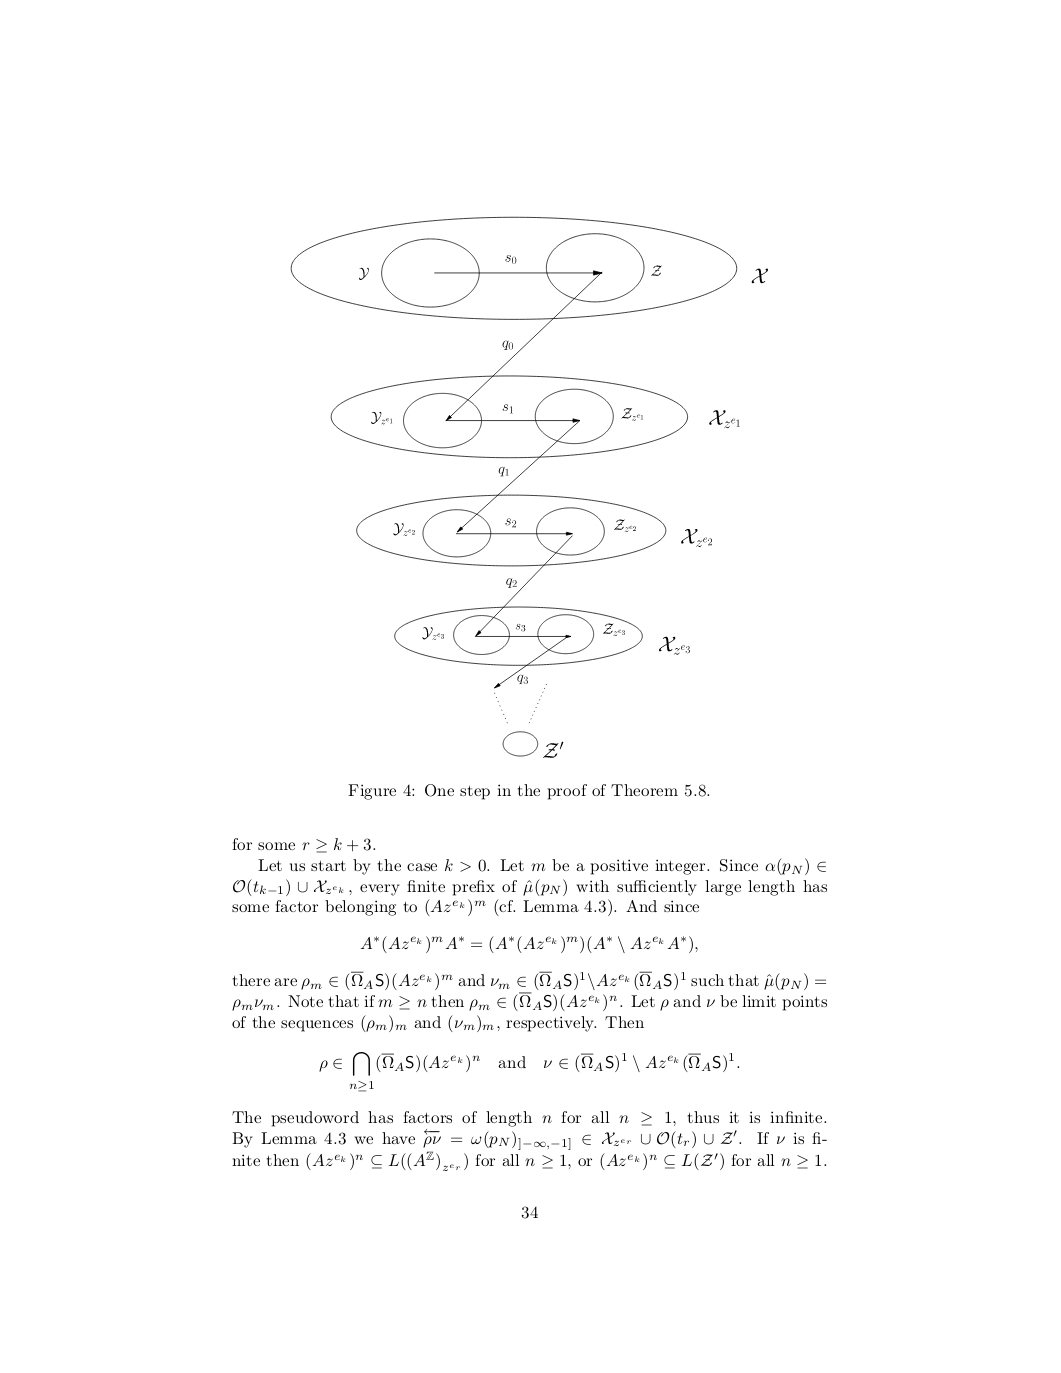figure: (290, 216, 767, 757)
formula: (319, 1052, 739, 1091), (360, 935, 697, 954)
